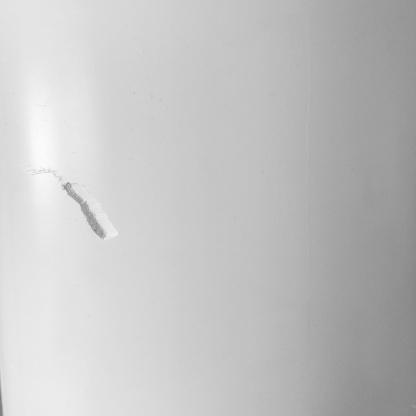sunshang: (25, 163, 125, 242)
